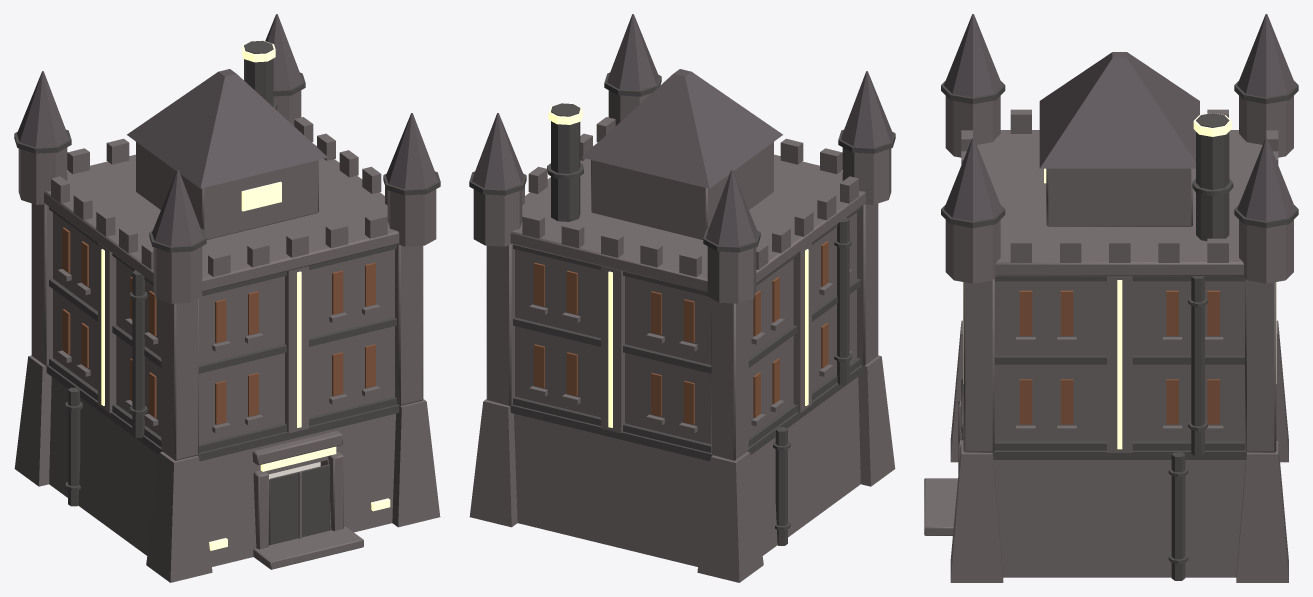
Rendered from TefraBloque.fbx.
The picture shows the model from 3 angles, left to right: view 1: azimuth 30°, elevation 25°; view 2: azimuth 150°, elevation 25°; view 3: azimuth 270°, elevation 25°; orthographic projection. The views are drawn at different scales.
Visible parts, largest first — view 1: TefraBloque_Medio_Cuerpo, TefraBloque_Base_Cuerpo, TefraBloque_Tope_Cuerpo, TefraBloque_Tope_Techo, TefraBloque_Medio_Metal, TefraBloque_Base_Metal, TefraBloque_Medio_Cristal, TefraBloque_Tope_Metal, TefraBloque_Medio_Luz, TefraBloque_Tope_Luz, TefraBloque_Base_Luz; view 2: TefraBloque_Medio_Cuerpo, TefraBloque_Base_Cuerpo, TefraBloque_Tope_Cuerpo, TefraBloque_Tope_Techo, TefraBloque_Medio_Metal, TefraBloque_Medio_Cristal, TefraBloque_Tope_Metal, TefraBloque_Base_Metal, TefraBloque_Medio_Luz; view 3: TefraBloque_Medio_Cuerpo, TefraBloque_Base_Cuerpo, TefraBloque_Tope_Cuerpo, TefraBloque_Tope_Techo, TefraBloque_Medio_Metal, TefraBloque_Tope_Metal, TefraBloque_Medio_Cristal, TefraBloque_Base_Metal, TefraBloque_Medio_Luz.
Part boxes in pixels (left/top/right/bottom): TefraBloque_Medio_Cuerpo: left=31, top=203, right=423, bottom=460; TefraBloque_Base_Cuerpo: left=14, top=355, right=440, bottom=582; TefraBloque_Tope_Cuerpo: left=18, top=90, right=436, bottom=303; TefraBloque_Tope_Techo: left=17, top=14, right=437, bottom=246; TefraBloque_Medio_Metal: left=49, top=207, right=397, bottom=452; TefraBloque_Base_Metal: left=46, top=365, right=399, bottom=545; TefraBloque_Medio_Cristal: left=62, top=227, right=375, bottom=424; TefraBloque_Tope_Metal: left=14, top=40, right=440, bottom=252; TefraBloque_Medio_Luz: left=101, top=249, right=301, bottom=427; TefraBloque_Tope_Luz: left=241, top=40, right=281, bottom=211; TefraBloque_Base_Luz: left=209, top=446, right=390, bottom=550; TefraBloque_Medio_Cuerpo: left=486, top=203, right=878, bottom=460; TefraBloque_Base_Cuerpo: left=469, top=355, right=895, bottom=582; TefraBloque_Tope_Cuerpo: left=473, top=90, right=891, bottom=303; TefraBloque_Tope_Techo: left=472, top=14, right=892, bottom=246; TefraBloque_Medio_Metal: left=512, top=207, right=860, bottom=452; TefraBloque_Medio_Cristal: left=534, top=241, right=828, bottom=424; TefraBloque_Tope_Metal: left=469, top=72, right=895, bottom=252; TefraBloque_Base_Metal: left=510, top=365, right=863, bottom=545; TefraBloque_Medio_Luz: left=608, top=249, right=808, bottom=427; TefraBloque_Medio_Cuerpo: left=963, top=276, right=1276, bottom=452; TefraBloque_Base_Cuerpo: left=924, top=320, right=1288, bottom=582; TefraBloque_Tope_Cuerpo: left=945, top=96, right=1293, bottom=283; TefraBloque_Tope_Techo: left=944, top=14, right=1295, bottom=221; TefraBloque_Medio_Metal: left=994, top=276, right=1244, bottom=455; TefraBloque_Tope_Metal: left=941, top=81, right=1298, bottom=241; TefraBloque_Medio_Cristal: left=1019, top=290, right=1219, bottom=424; TefraBloque_Base_Metal: left=962, top=435, right=1246, bottom=580; TefraBloque_Medio_Luz: left=963, top=280, right=1276, bottom=449.
Bounding box in the file's own units: 3660 × 5150 × 3830.
